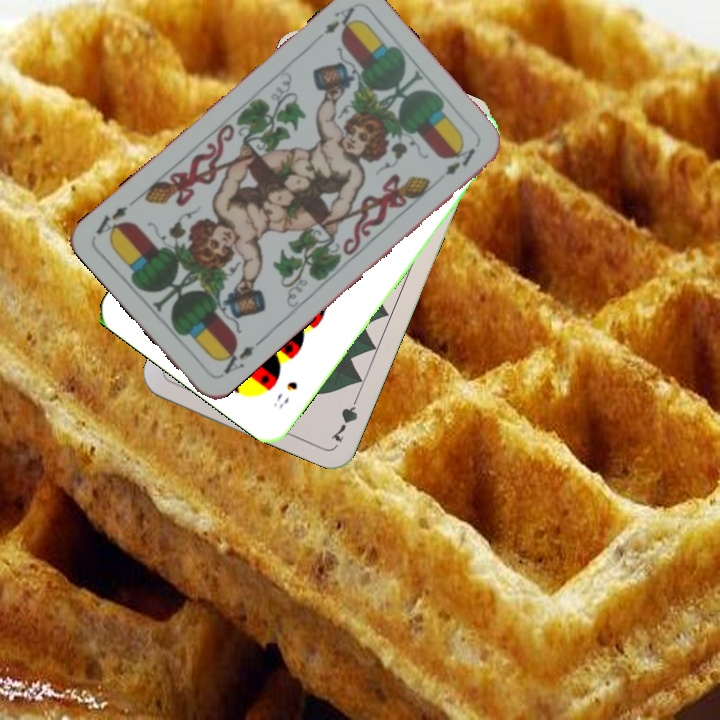EA: (215, 340, 257, 377), (320, 3, 360, 38)
G7: (327, 389, 363, 445)
S8: (269, 377, 301, 411)
